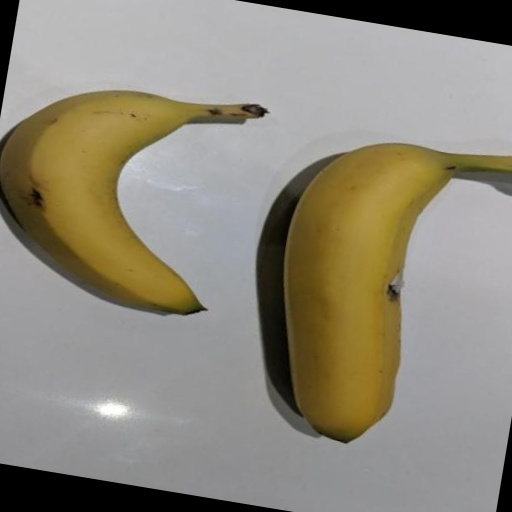fruit: (284, 143, 512, 442), (0, 90, 265, 313)
